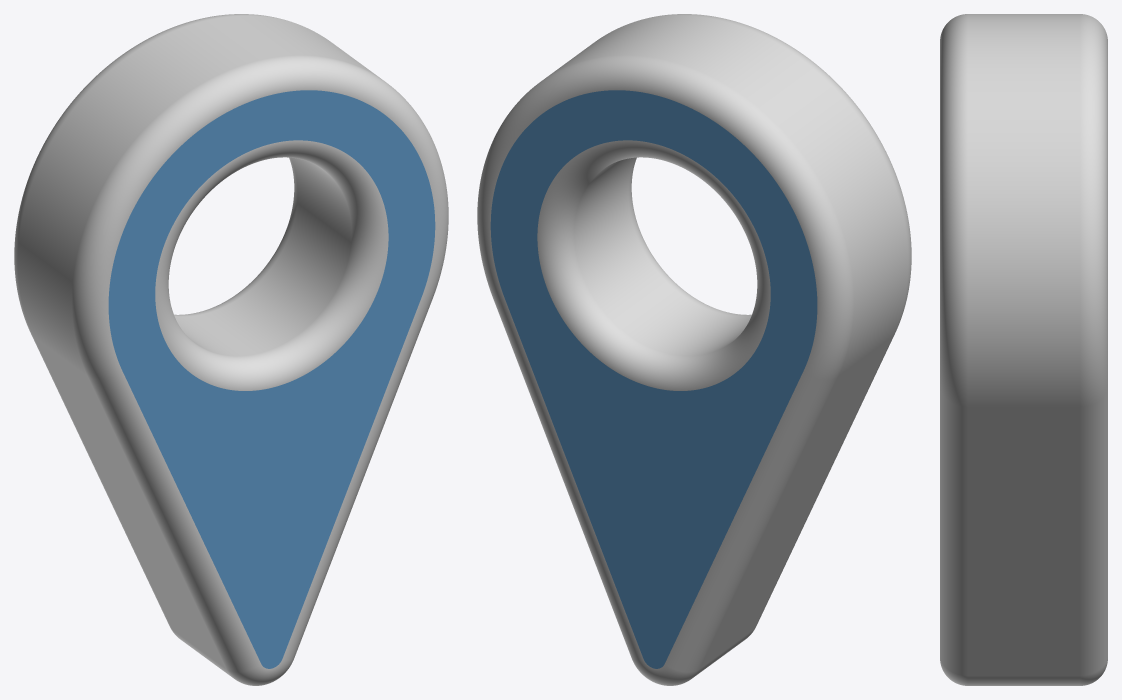
File: arrivals1.gltf
The picture shows the model from 3 angles, left to right: view 1: azimuth 30°, elevation 25°; view 2: azimuth 150°, elevation 25°; view 3: azimuth 270°, elevation 25°; orthographic projection. The views are drawn at different scales.
Parts seen in each view (by area): view 1: arrivals1; view 2: arrivals1; view 3: arrivals1.
Boxes of the visible parts, x1=… form: arrivals1: x1=14, y1=14, x2=448, y2=685; arrivals1: x1=477, y1=14, x2=911, y2=685; arrivals1: x1=940, y1=14, x2=1107, y2=685.
Bounding box in the file's own units: 0.8 × 1.27 × 0.3.
